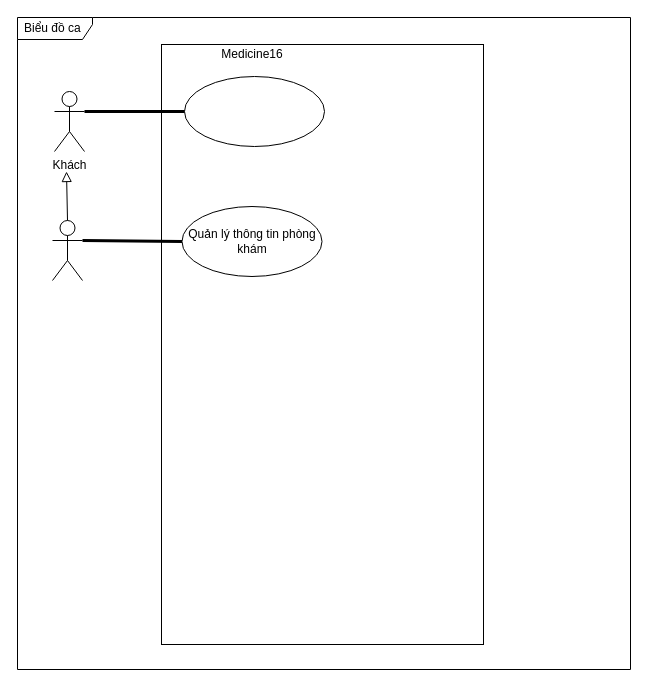
Some shapes in this 648 by 687 pixel diagram are drawn without their labels. Here are the shapes that lost their labels. From the top down, the centre of each, then its label:
the point at 254,111: Xem thông tin phòng khám
the point at 67,250: Quản trị viên
